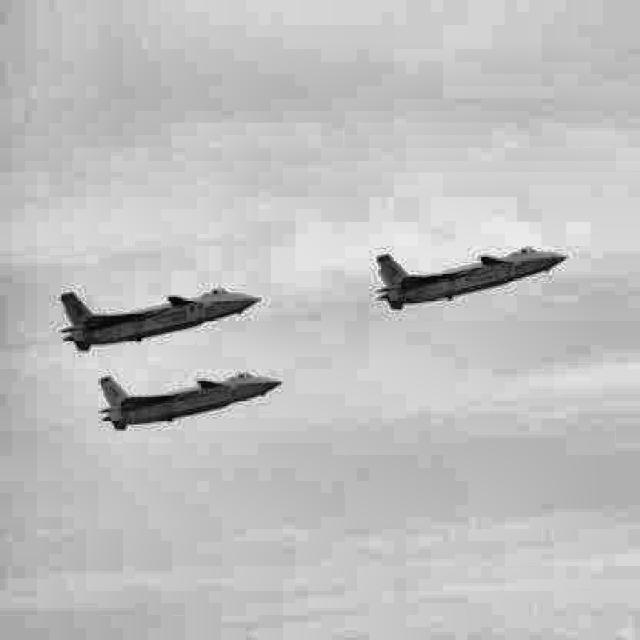J20: (60, 288, 260, 352), (377, 246, 568, 311), (98, 371, 282, 431)
